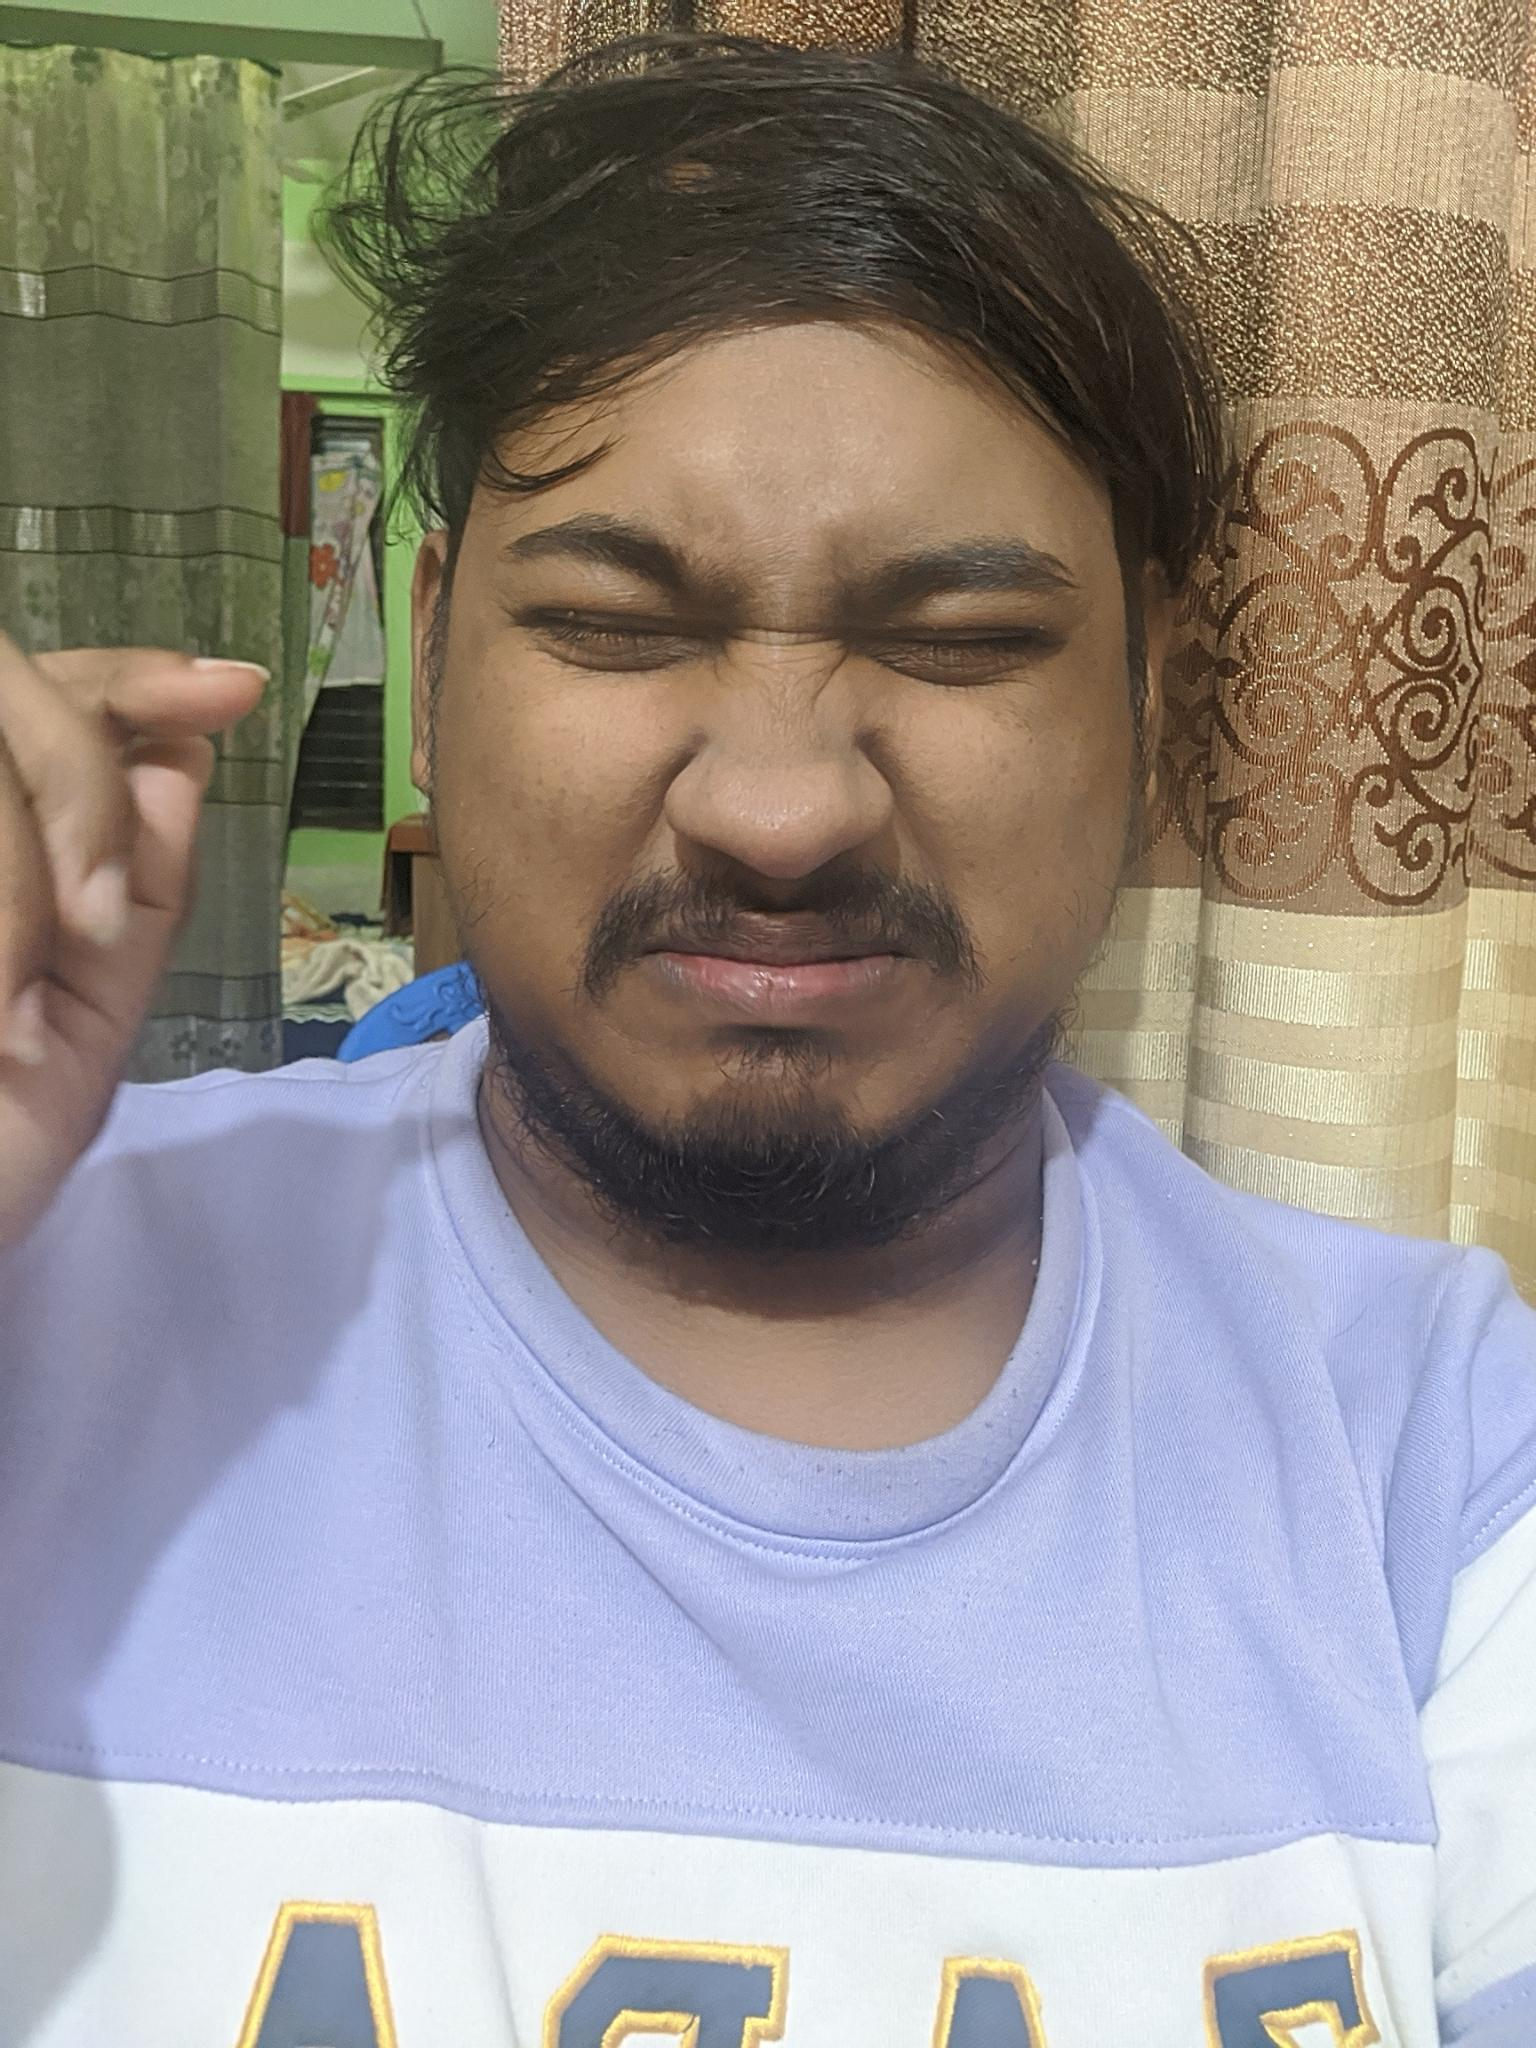Disgust: (440, 402, 1123, 1222)
